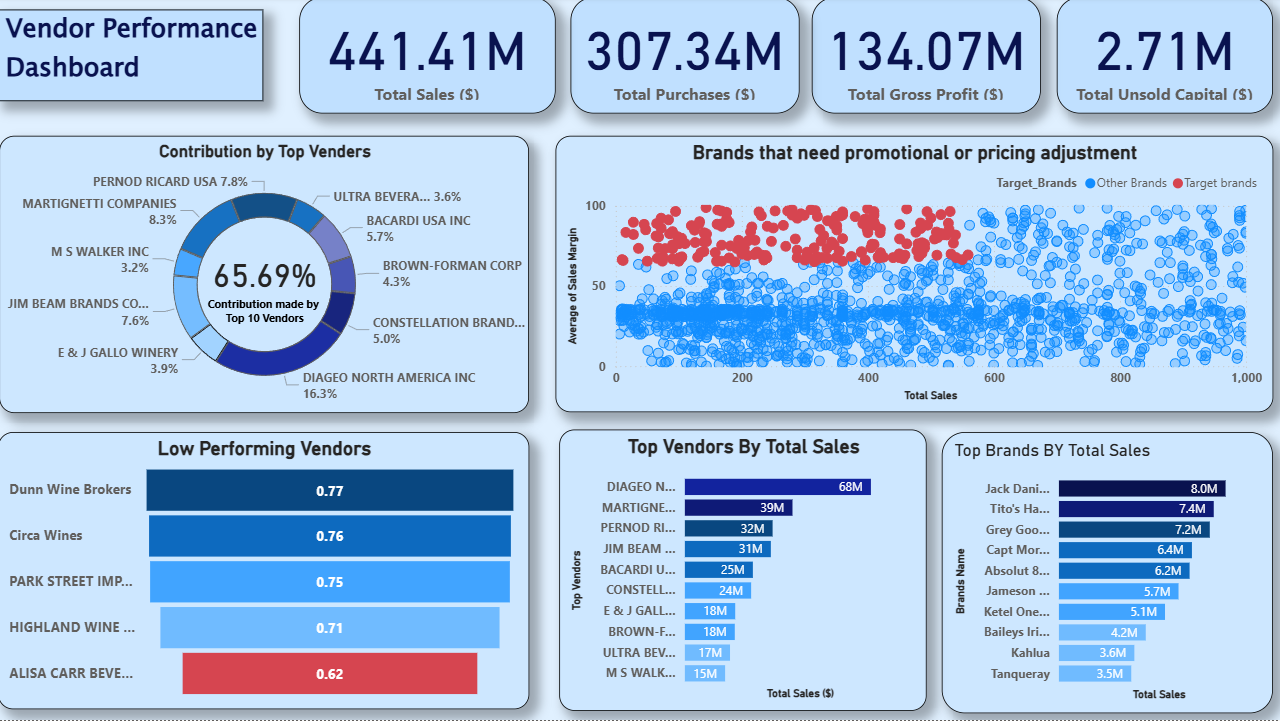

Layout of this report page (visuals, bound fields, positions):
{"tool":"powerbi","page":{"name":"Page 1","canvas":[1280,720],"ordinal":0},"visuals":[{"type":"scatterChart","title":"Brands that need promotional or pricing adjustment","fields":{"Y":["Sum(brandperformance.Average_Sales_Margin)"],"X":["Sum(brandperformance.Total_Sales)"],"Category":["brandperformance.description"],"Series":["brandperformance.target_brands"]},"box":[554.8,138.1,714,274.9],"z":0},{"type":"barChart","title":"Top Vendors By Total Sales","fields":{"Category":["top_vendros.vendor_name"],"Y":["Sum(top_vendros.Total_Sales_Dollars)"]},"box":[558.5,430.4,365.7,279.9],"z":1000},{"type":"barChart","title":"Top Brands By Total Sales","fields":{"Category":["top_products.description"],"Y":["Sum(top_products.Top_Brands)"]},"box":[939.2,432.9,329.6,279.9],"z":2000},{"type":"funnel","title":"Low Performing Vendors","fields":{"Y":["Sum(low_turnover.Average_Stock_Turnover)"],"Category":["low_turnover.vendor_name"]},"box":[0,432.9,528.7,276.2],"z":3000},{"type":"donutChart","title":"Contribution by  Top Venders","fields":{"Series":["contribution.vendor_name"],"Y":["Sum(contribution.contribution%)"]},"box":[1.2,138.1,527.4,276.2],"z":4000},{"type":"card","fields":{"Values":["Sum(vendor_summary.gross_profit)"]},"box":[809.8,0,227.6,115.7],"z":5000},{"type":"card","title":"Total Contribution by top ","fields":{"Values":["contribution.Top10_Contribution_Total"]},"box":[191.6,191.6,148,179.1],"z":6000},{"type":"card","fields":{"Values":["Sum(vendor_summary.total_purchase_dollars)"]},"box":[569.7,0,227.6,115.7],"z":7000},{"type":"card","fields":{"Values":["Sum(vendor_summary.total_sales_dollars)"]},"box":[299.8,0,255,115.7],"z":8000},{"type":"card","fields":{"Values":["Sum(vendor_summary.unsold_quantity_value)"]},"box":[1053.6,0,215.2,115.7],"z":9000},{"type":"textbox","title":"Vendor Performance Dashboard","box":[0,12.4,263.7,90.8],"z":9502}]}

Visuals, with their boxes in screenshot pixels (x1, y1, x2, y2), scaled from the page's 1280x720 canvas onto the 1280x721 screenshot:
"Brands that need promotional or pricing adjustment" scatterChart: bbox(555, 138, 1269, 414)
"Top Vendors By Total Sales" barChart: bbox(558, 431, 924, 711)
"Top Brands By Total Sales" barChart: bbox(939, 434, 1269, 714)
"Low Performing Vendors" funnel: bbox(0, 434, 529, 710)
"Contribution by  Top Venders" donutChart: bbox(1, 138, 529, 415)
card - Sum(vendor_summary.gross_profit): bbox(810, 0, 1037, 116)
"Total Contribution by top " card: bbox(192, 192, 340, 371)
card - Sum(vendor_summary.total_purchase_dollars): bbox(570, 0, 797, 116)
card - Sum(vendor_summary.total_sales_dollars): bbox(300, 0, 555, 116)
card - Sum(vendor_summary.unsold_quantity_value): bbox(1054, 0, 1269, 116)
"Vendor Performance Dashboard" textbox: bbox(0, 12, 264, 103)
